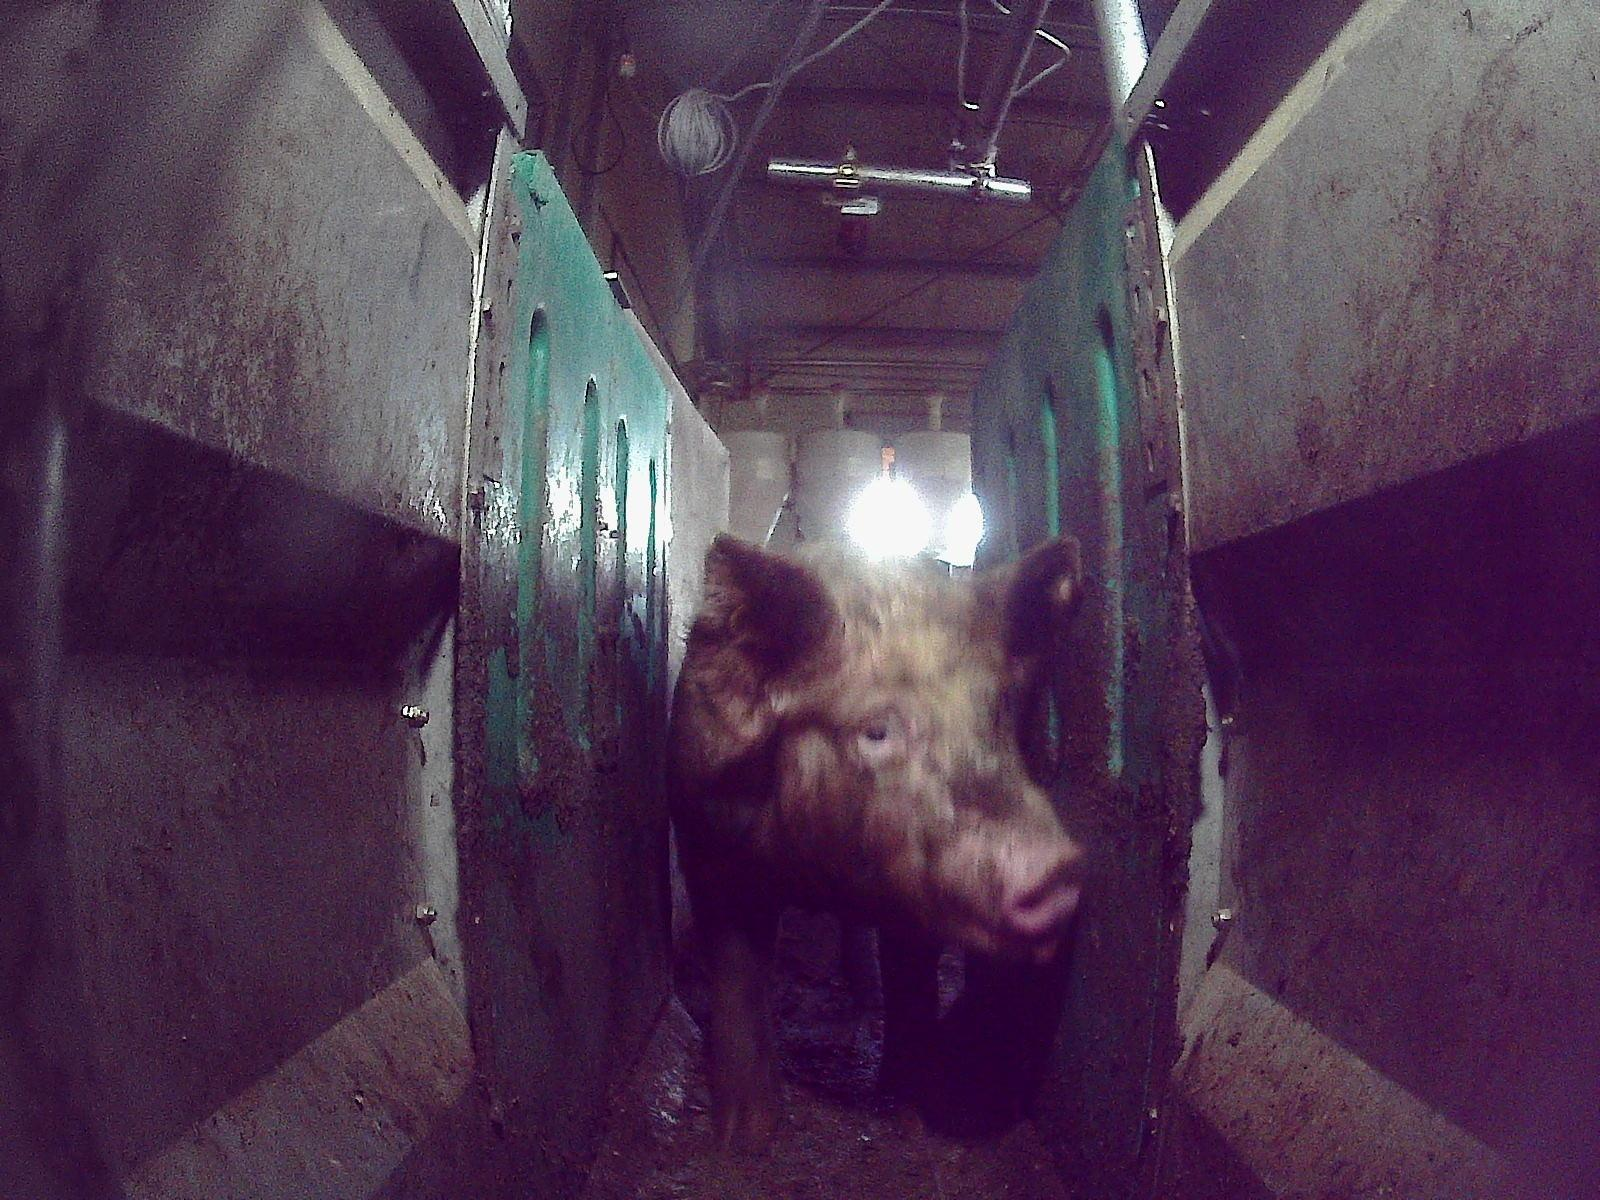Face: (773, 607, 1083, 965)
